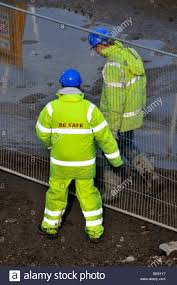Hard Hat: (85, 28, 113, 50), (58, 69, 83, 86)
High Viz: (48, 99, 97, 171), (103, 51, 144, 121)
